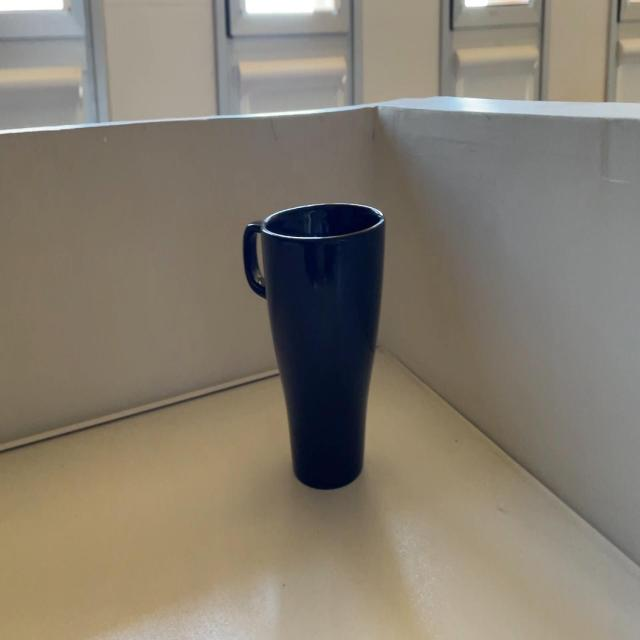cup: (242, 198, 386, 489)
